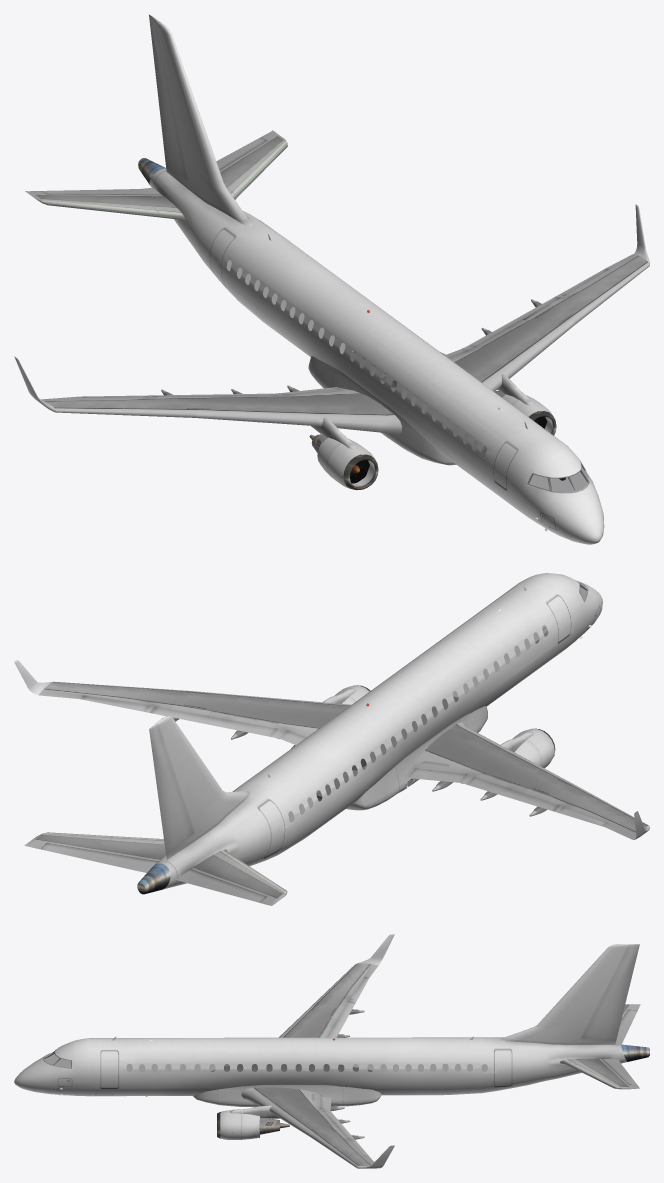
3 renders of one model, top to bottom at view 1: azimuth 30°, elevation 25°; view 2: azimuth 150°, elevation 25°; view 3: azimuth 270°, elevation 25°, orthographic. The views are drawn at different scales.
Parts seen in each view (by area): view 1: fuselage.001, vstab, hstab, wing.002, wing.006, wing.004, fuselage, wing.009, wing.003, rudder, nacelle, wing.007 (+2 smaller); view 2: fuselage.001, vstab, hstab, fuselage, wing.002, wing.006, rudder, wing.004, wing.003, wing.009, elevator.l, wing.007 (+9 smaller); view 3: fuselage.001, vstab, fuselage, rudder, wing.007, wing.004, wing.002, wing.009, hstab, wing.003, cylinder.003, door.l1 (+8 smaller).
Part boxes in pixels (x1,y1,x2,y2): fuselage.001: [149, 168, 604, 544]; vstab: [156, 20, 252, 226]; hstab: [25, 130, 287, 221]; wing.002: [466, 304, 574, 378]; wing.006: [276, 387, 402, 434]; wing.004: [171, 393, 318, 426]; fuselage: [308, 351, 486, 465]; wing.009: [41, 395, 195, 417]; wing.003: [550, 254, 649, 324]; rudder: [149, 14, 186, 177]; nacelle: [327, 441, 378, 490]; wing.007: [449, 347, 509, 391]; fuselage.001: [155, 573, 602, 889]; vstab: [157, 716, 252, 859]; hstab: [24, 832, 287, 905]; fuselage: [316, 696, 487, 810]; wing.002: [171, 691, 313, 737]; wing.006: [404, 722, 506, 783]; rudder: [149, 722, 193, 852]; wing.004: [465, 748, 572, 801]; wing.003: [38, 681, 192, 712]; wing.009: [549, 783, 648, 839]; elevator.l: [35, 840, 153, 872]; wing.007: [275, 701, 351, 739]; fuselage.001: [14, 1036, 626, 1096]; vstab: [497, 944, 627, 1044]; fuselage: [193, 1064, 381, 1107]; rudder: [582, 944, 639, 1039]; wing.007: [241, 1087, 331, 1112]; wing.004: [279, 1004, 344, 1037]; wing.002: [271, 1106, 344, 1137]; wing.009: [312, 963, 378, 1006]; hstab: [560, 1004, 640, 1089]; wing.003: [310, 1133, 373, 1167]; cylinder.003: [165, 1064, 487, 1071]; door.l1: [101, 1049, 118, 1087].
Bounding box in the file's own units: 28.2 × 10.22 × 35.83.
Materials: 8 (5 with a texture image).
